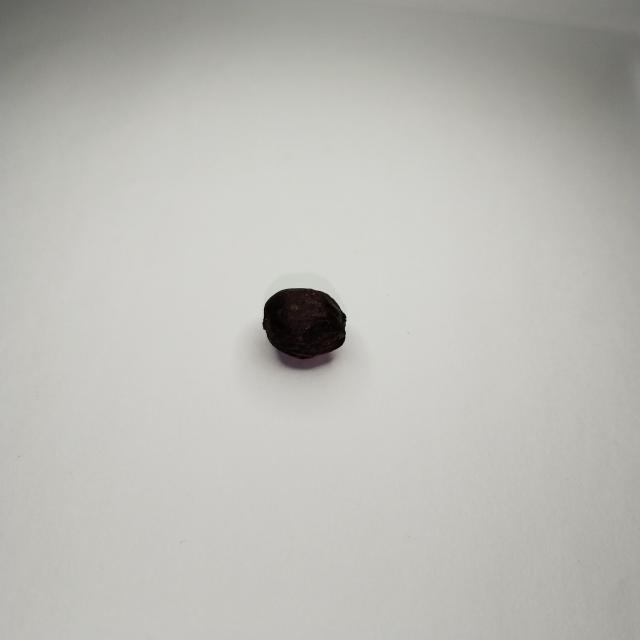Danado: (262, 290, 346, 358)
